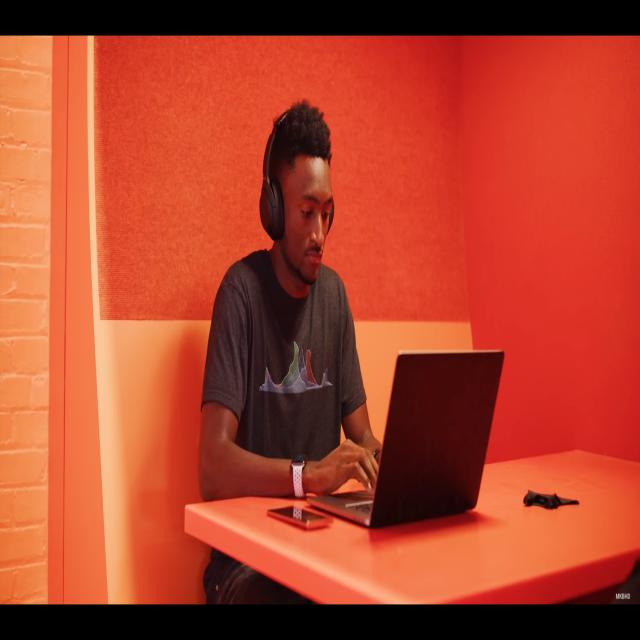Headphone: (258, 110, 335, 243)
